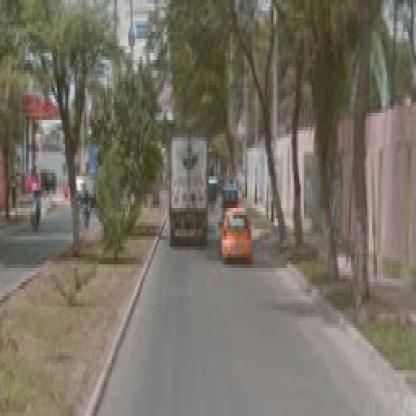Pista: (113, 269, 385, 375)
Vehiculo: (170, 135, 209, 248), (219, 205, 255, 265)
